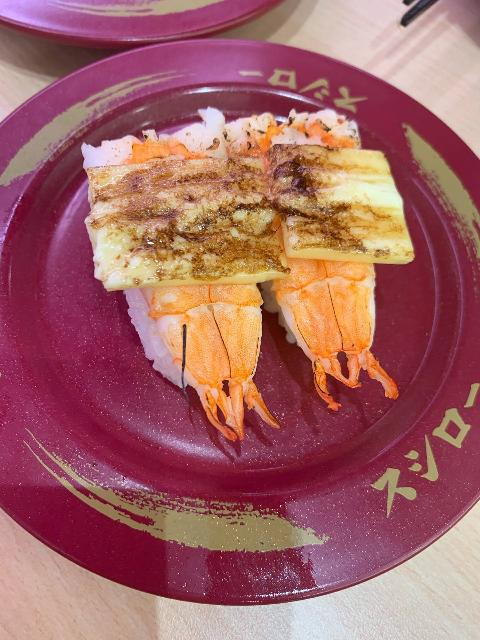janwhite: (0, 0, 272, 50)
